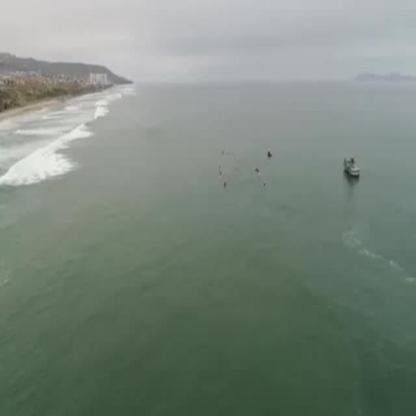Boat: (341, 149, 365, 180)
